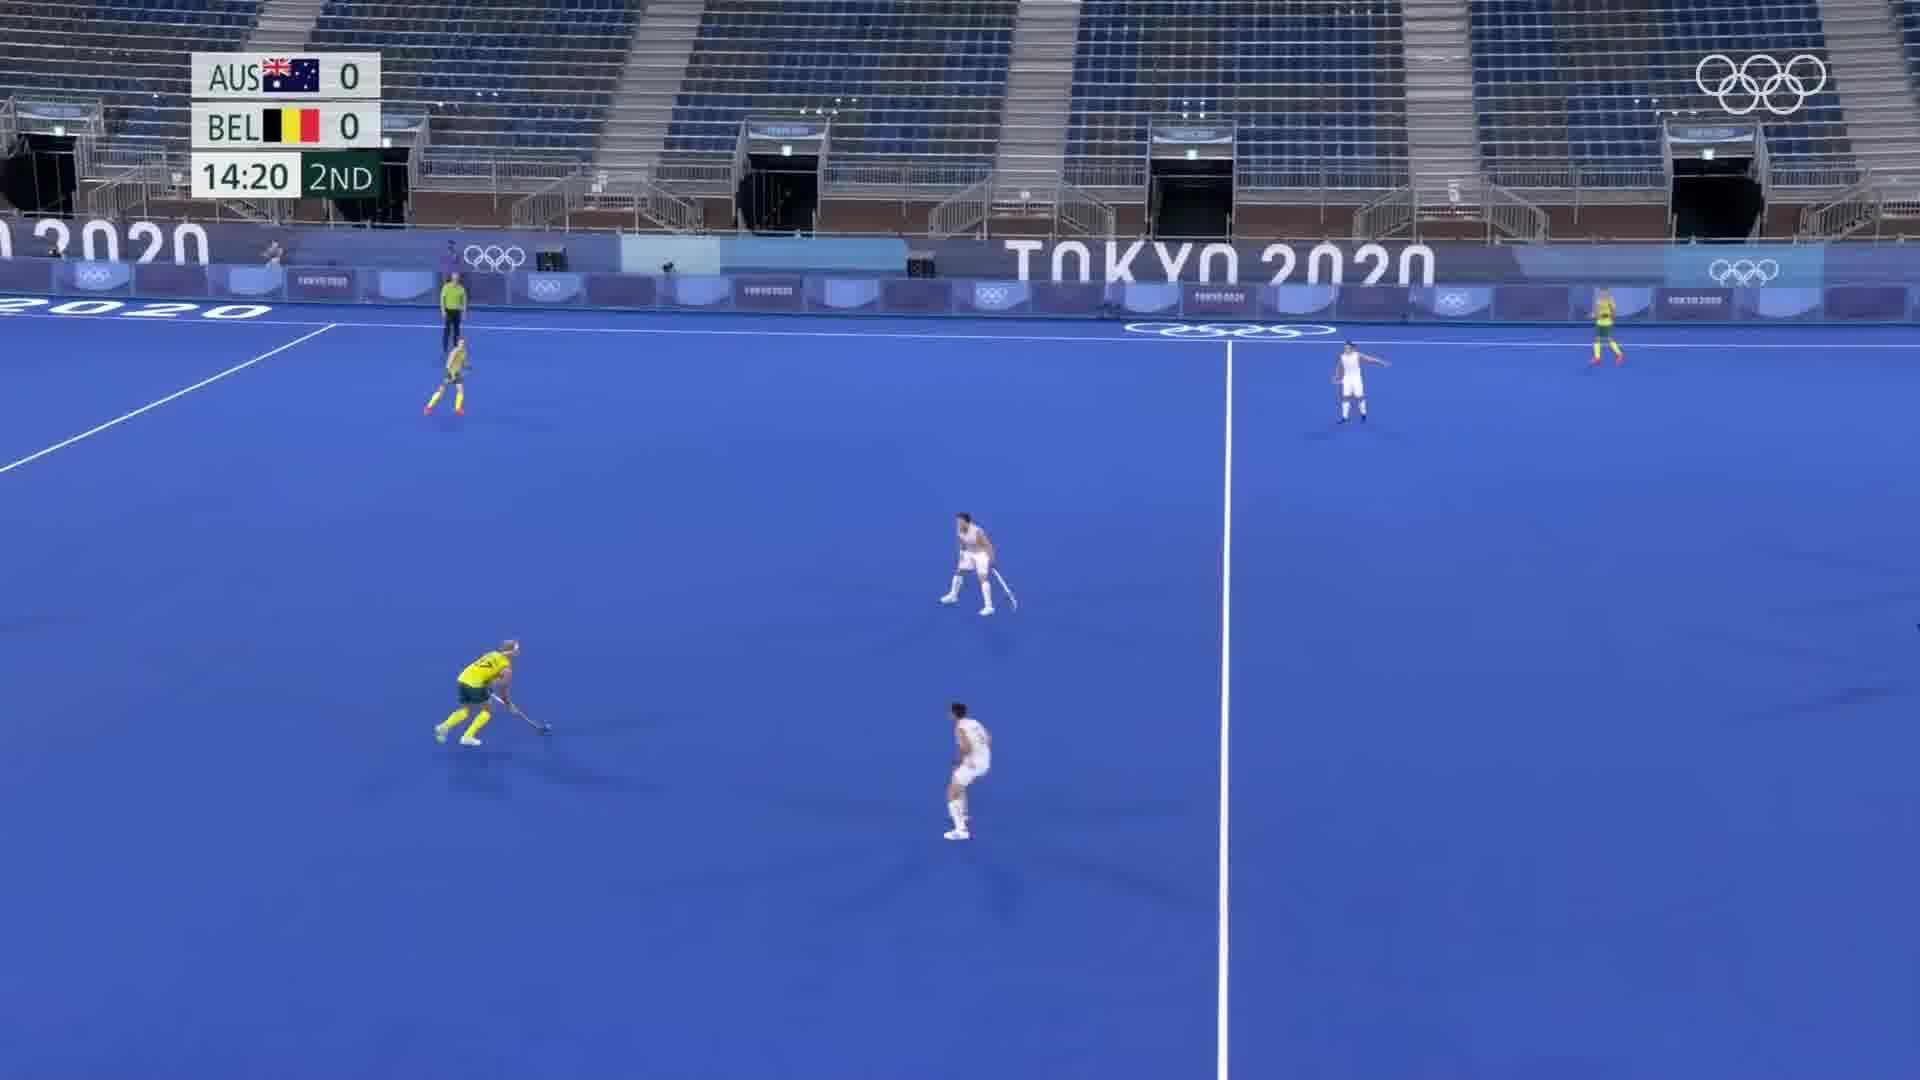ball: (538, 717, 558, 738)
